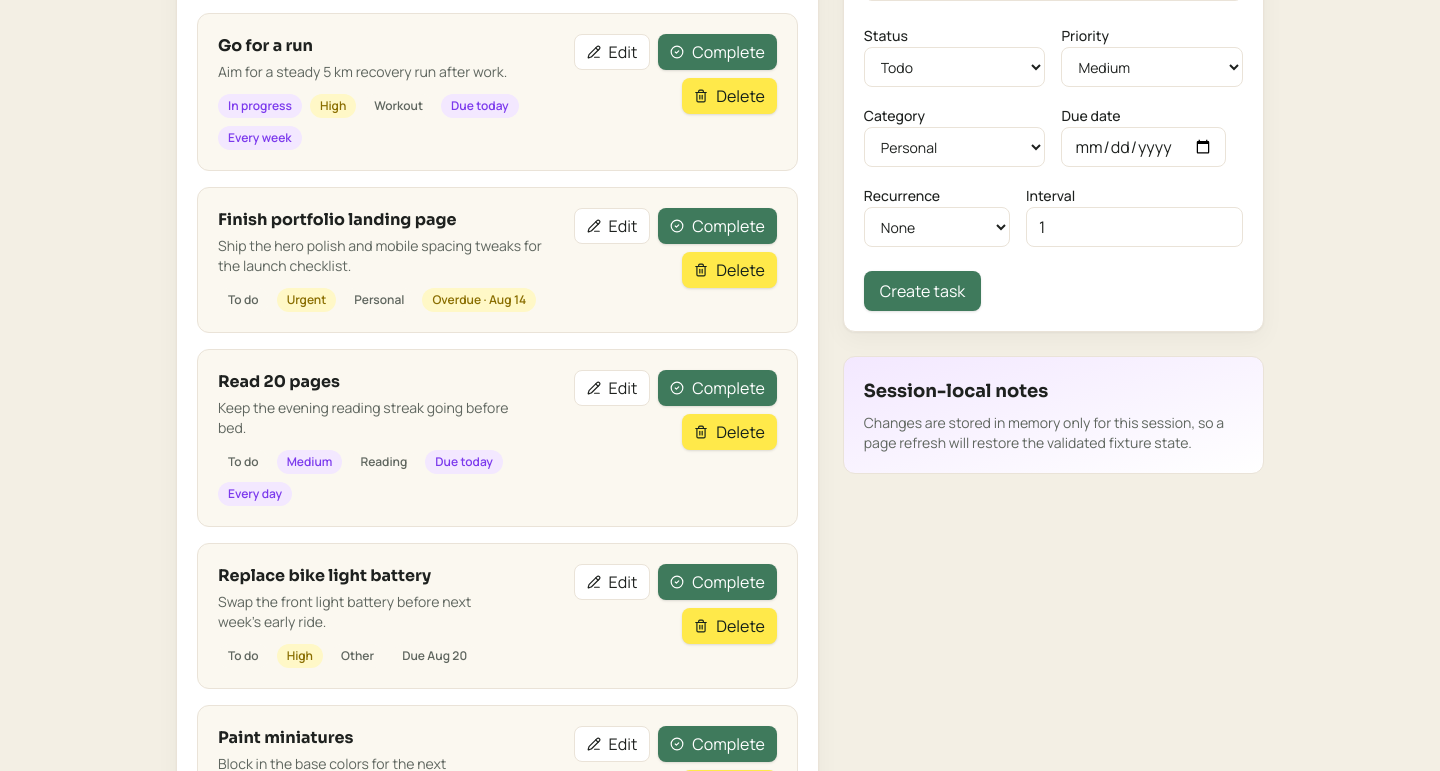
TasksPage — acting on a task › completes a task, which relabels the button and moves the done count
(page scrolled)
Click the button with aria-label "Complete Read 20 pages" at (718, 388), box [658, 370, 777, 406]
(page scrolled)
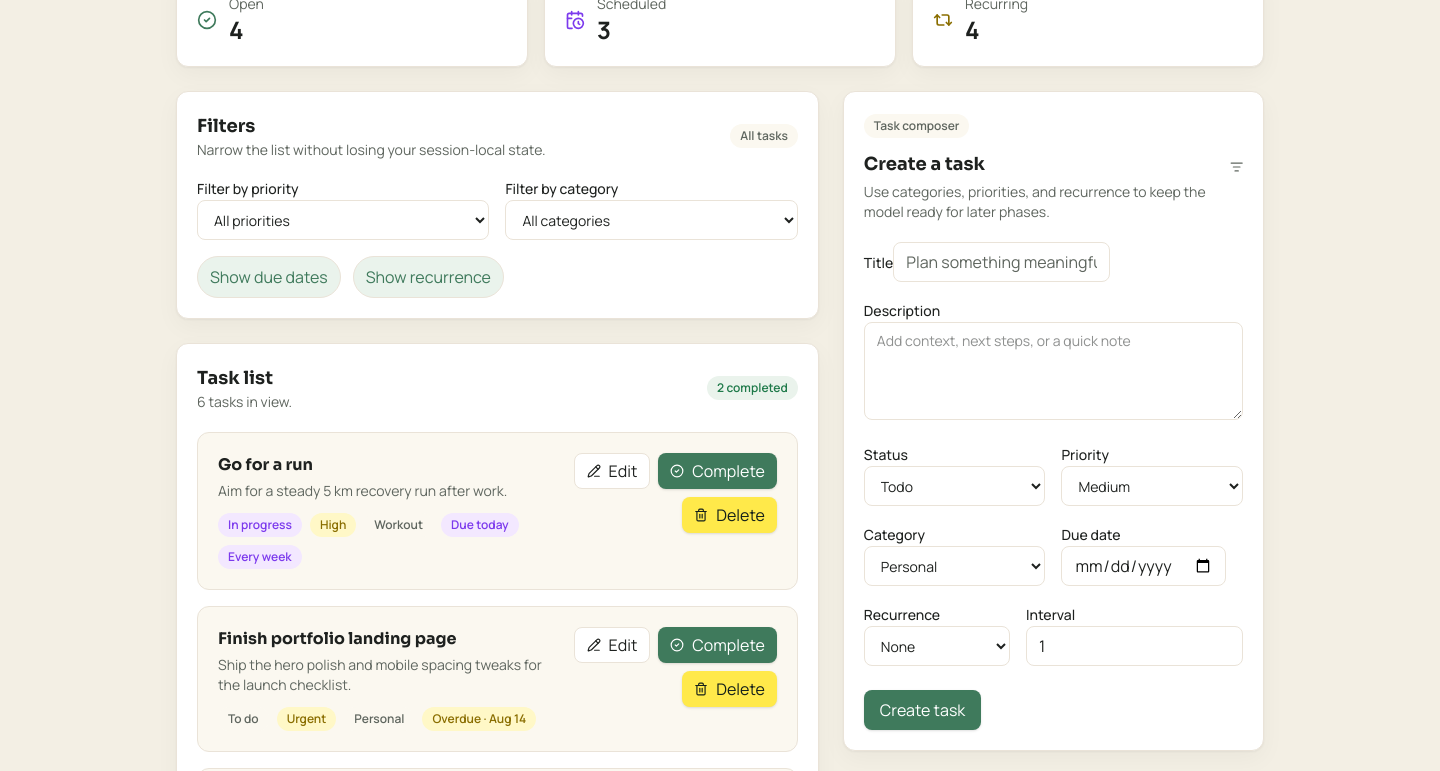
expect the text "2 completed" is shown: met, box [707, 376, 798, 400]
